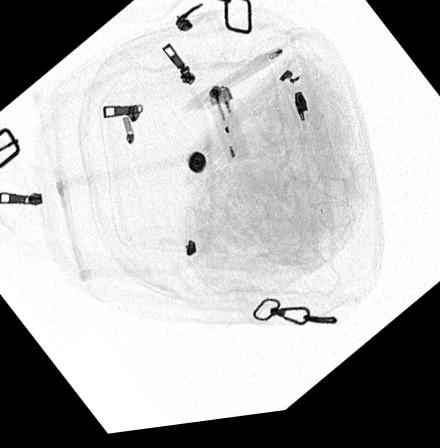Lighter: (205, 89, 250, 169)
